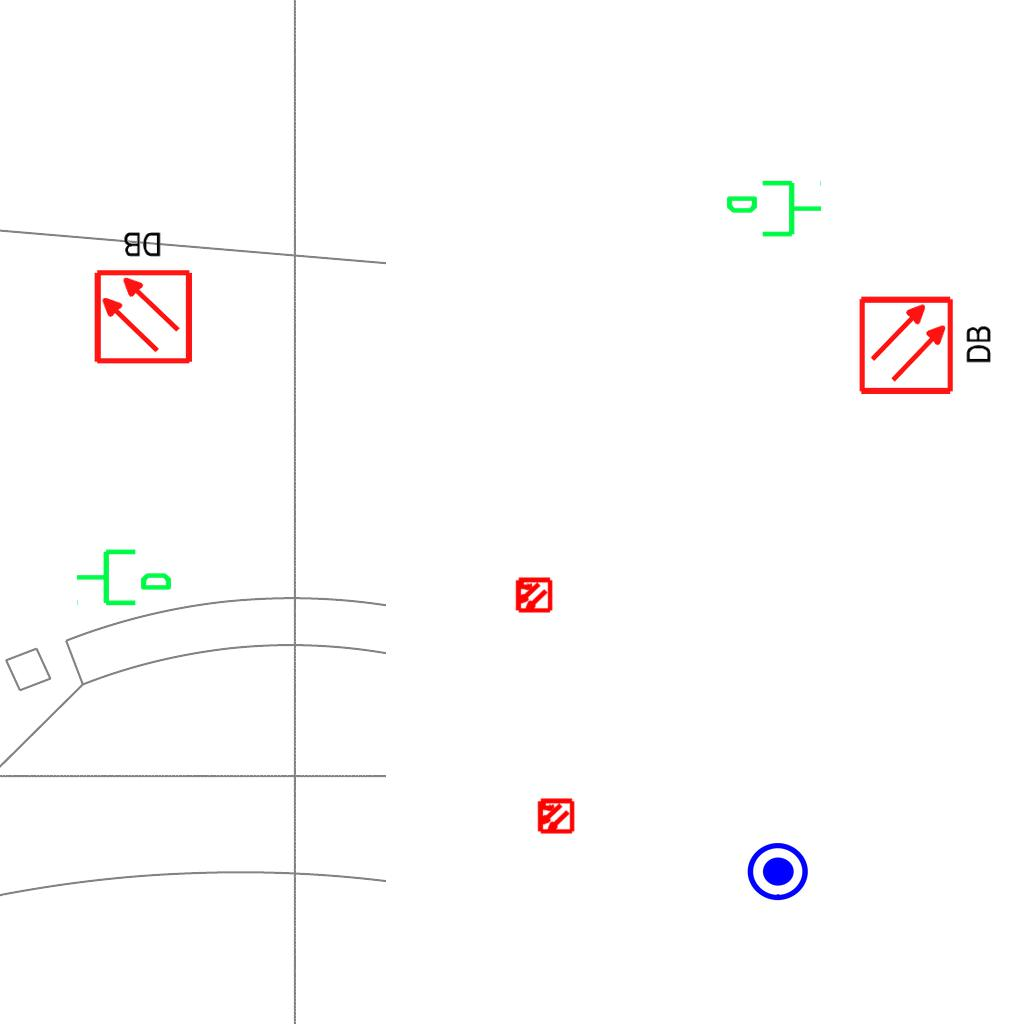DB_Melder_in_Doppelboden_mit_Revisionsoeffnung_mind_40_x_40_cm: (852, 287, 1001, 401), (85, 222, 199, 371)
Datenanschluss_einfach: (74, 541, 174, 610), (724, 176, 824, 245)
OT_Multisensormelder_(Kombination_RMO_WMD): (527, 788, 583, 844), (505, 567, 561, 623)
Taster: (745, 841, 811, 907)
